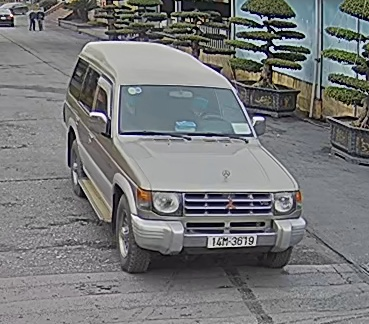vehicle plate: (204, 232, 260, 248)
